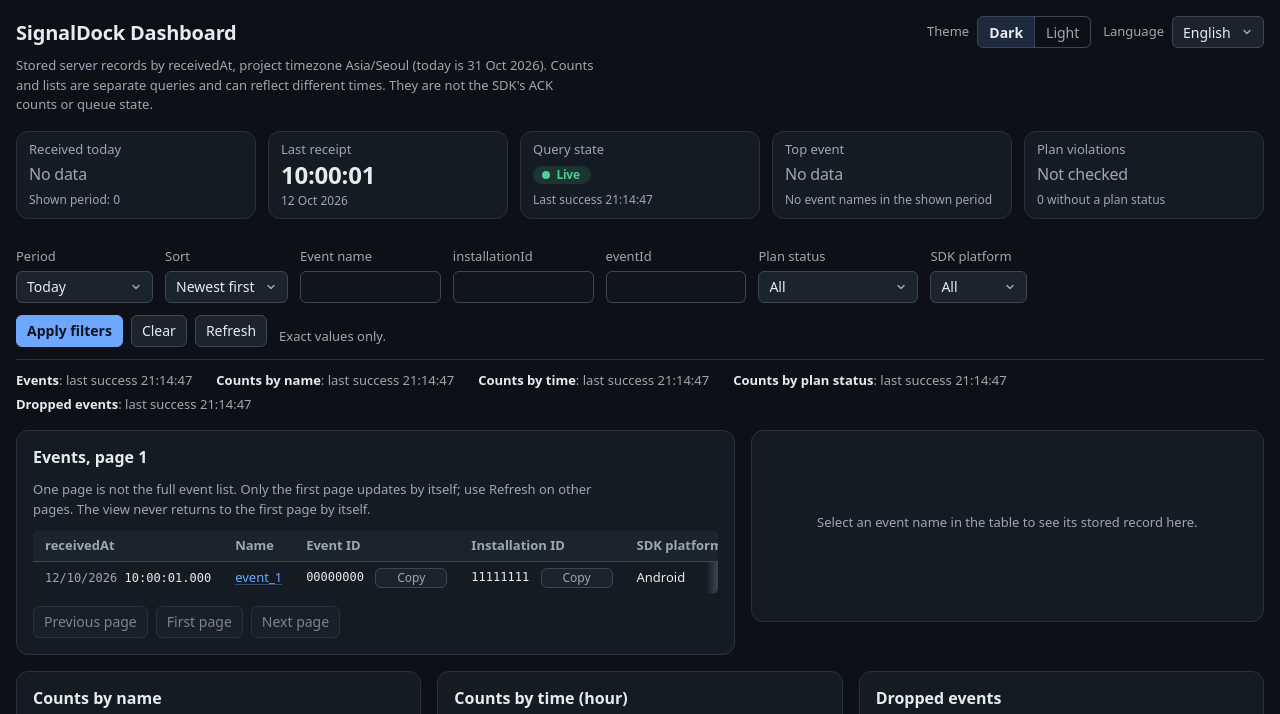
Test: language › keeps a filter error in step with a language switch
The width and height of the screenshot is (1280, 714).
Step 1. Type "nope" into the field labelled "installationId" → (523, 286), box [453,270,594,302]
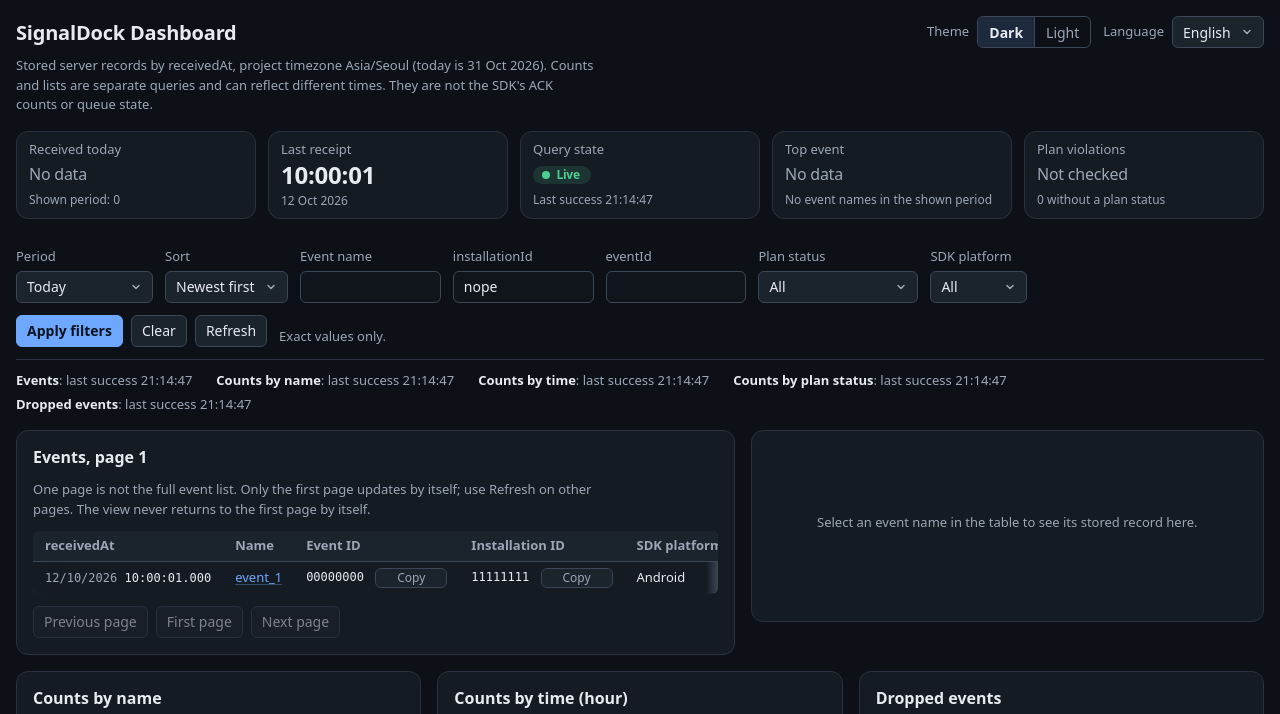
Step 2. Click the button "Apply filters" → (69, 330), box [16,314,123,346]
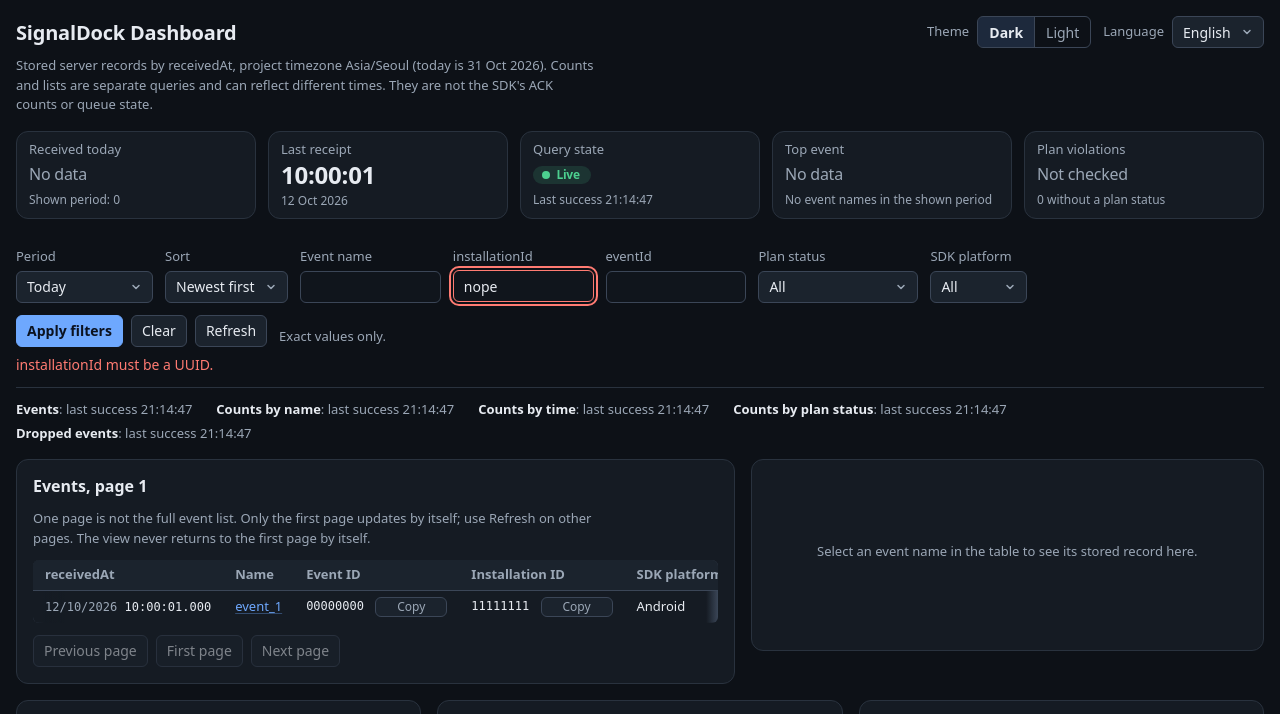
Check: the message reads "installationId must be a UUID.", box [16,355,213,374]
Step 3. Select "한국어" in the dropdown labelled "Language" → (1218, 32), box [1172,16,1264,48]
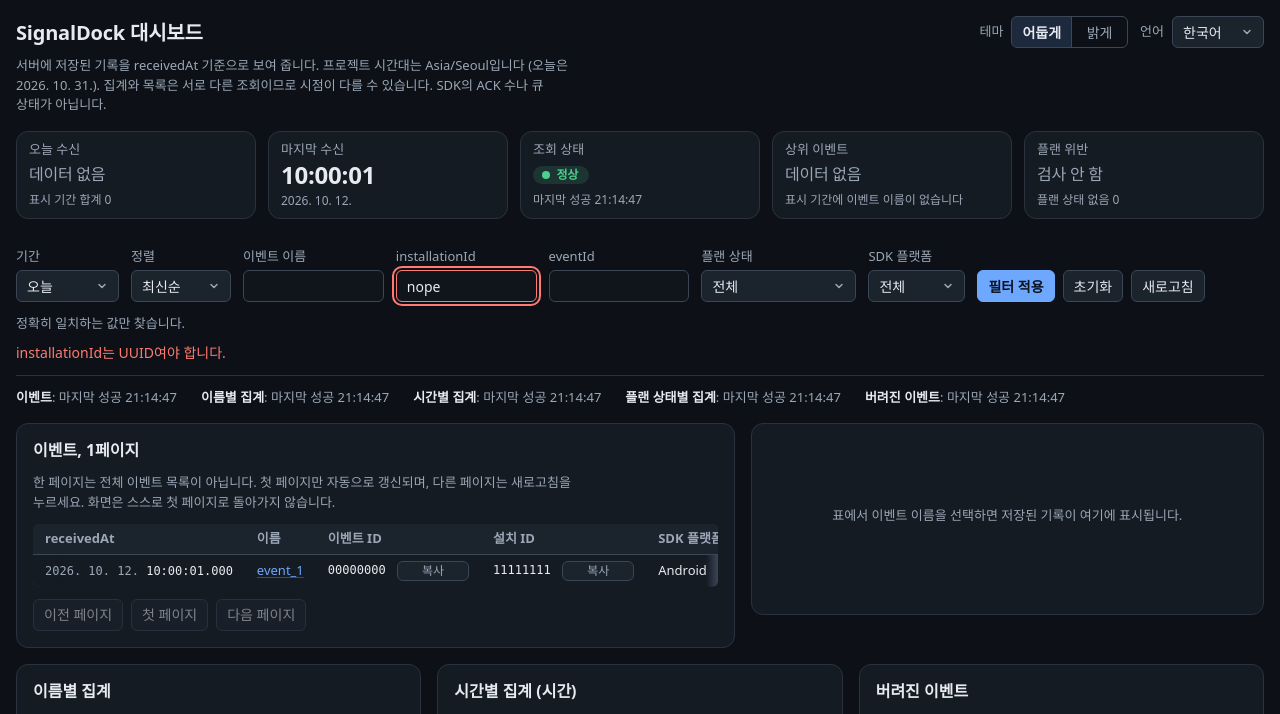
Check: the message reads "installationId는 UUID여야 합니다.", box [16,343,226,362]
